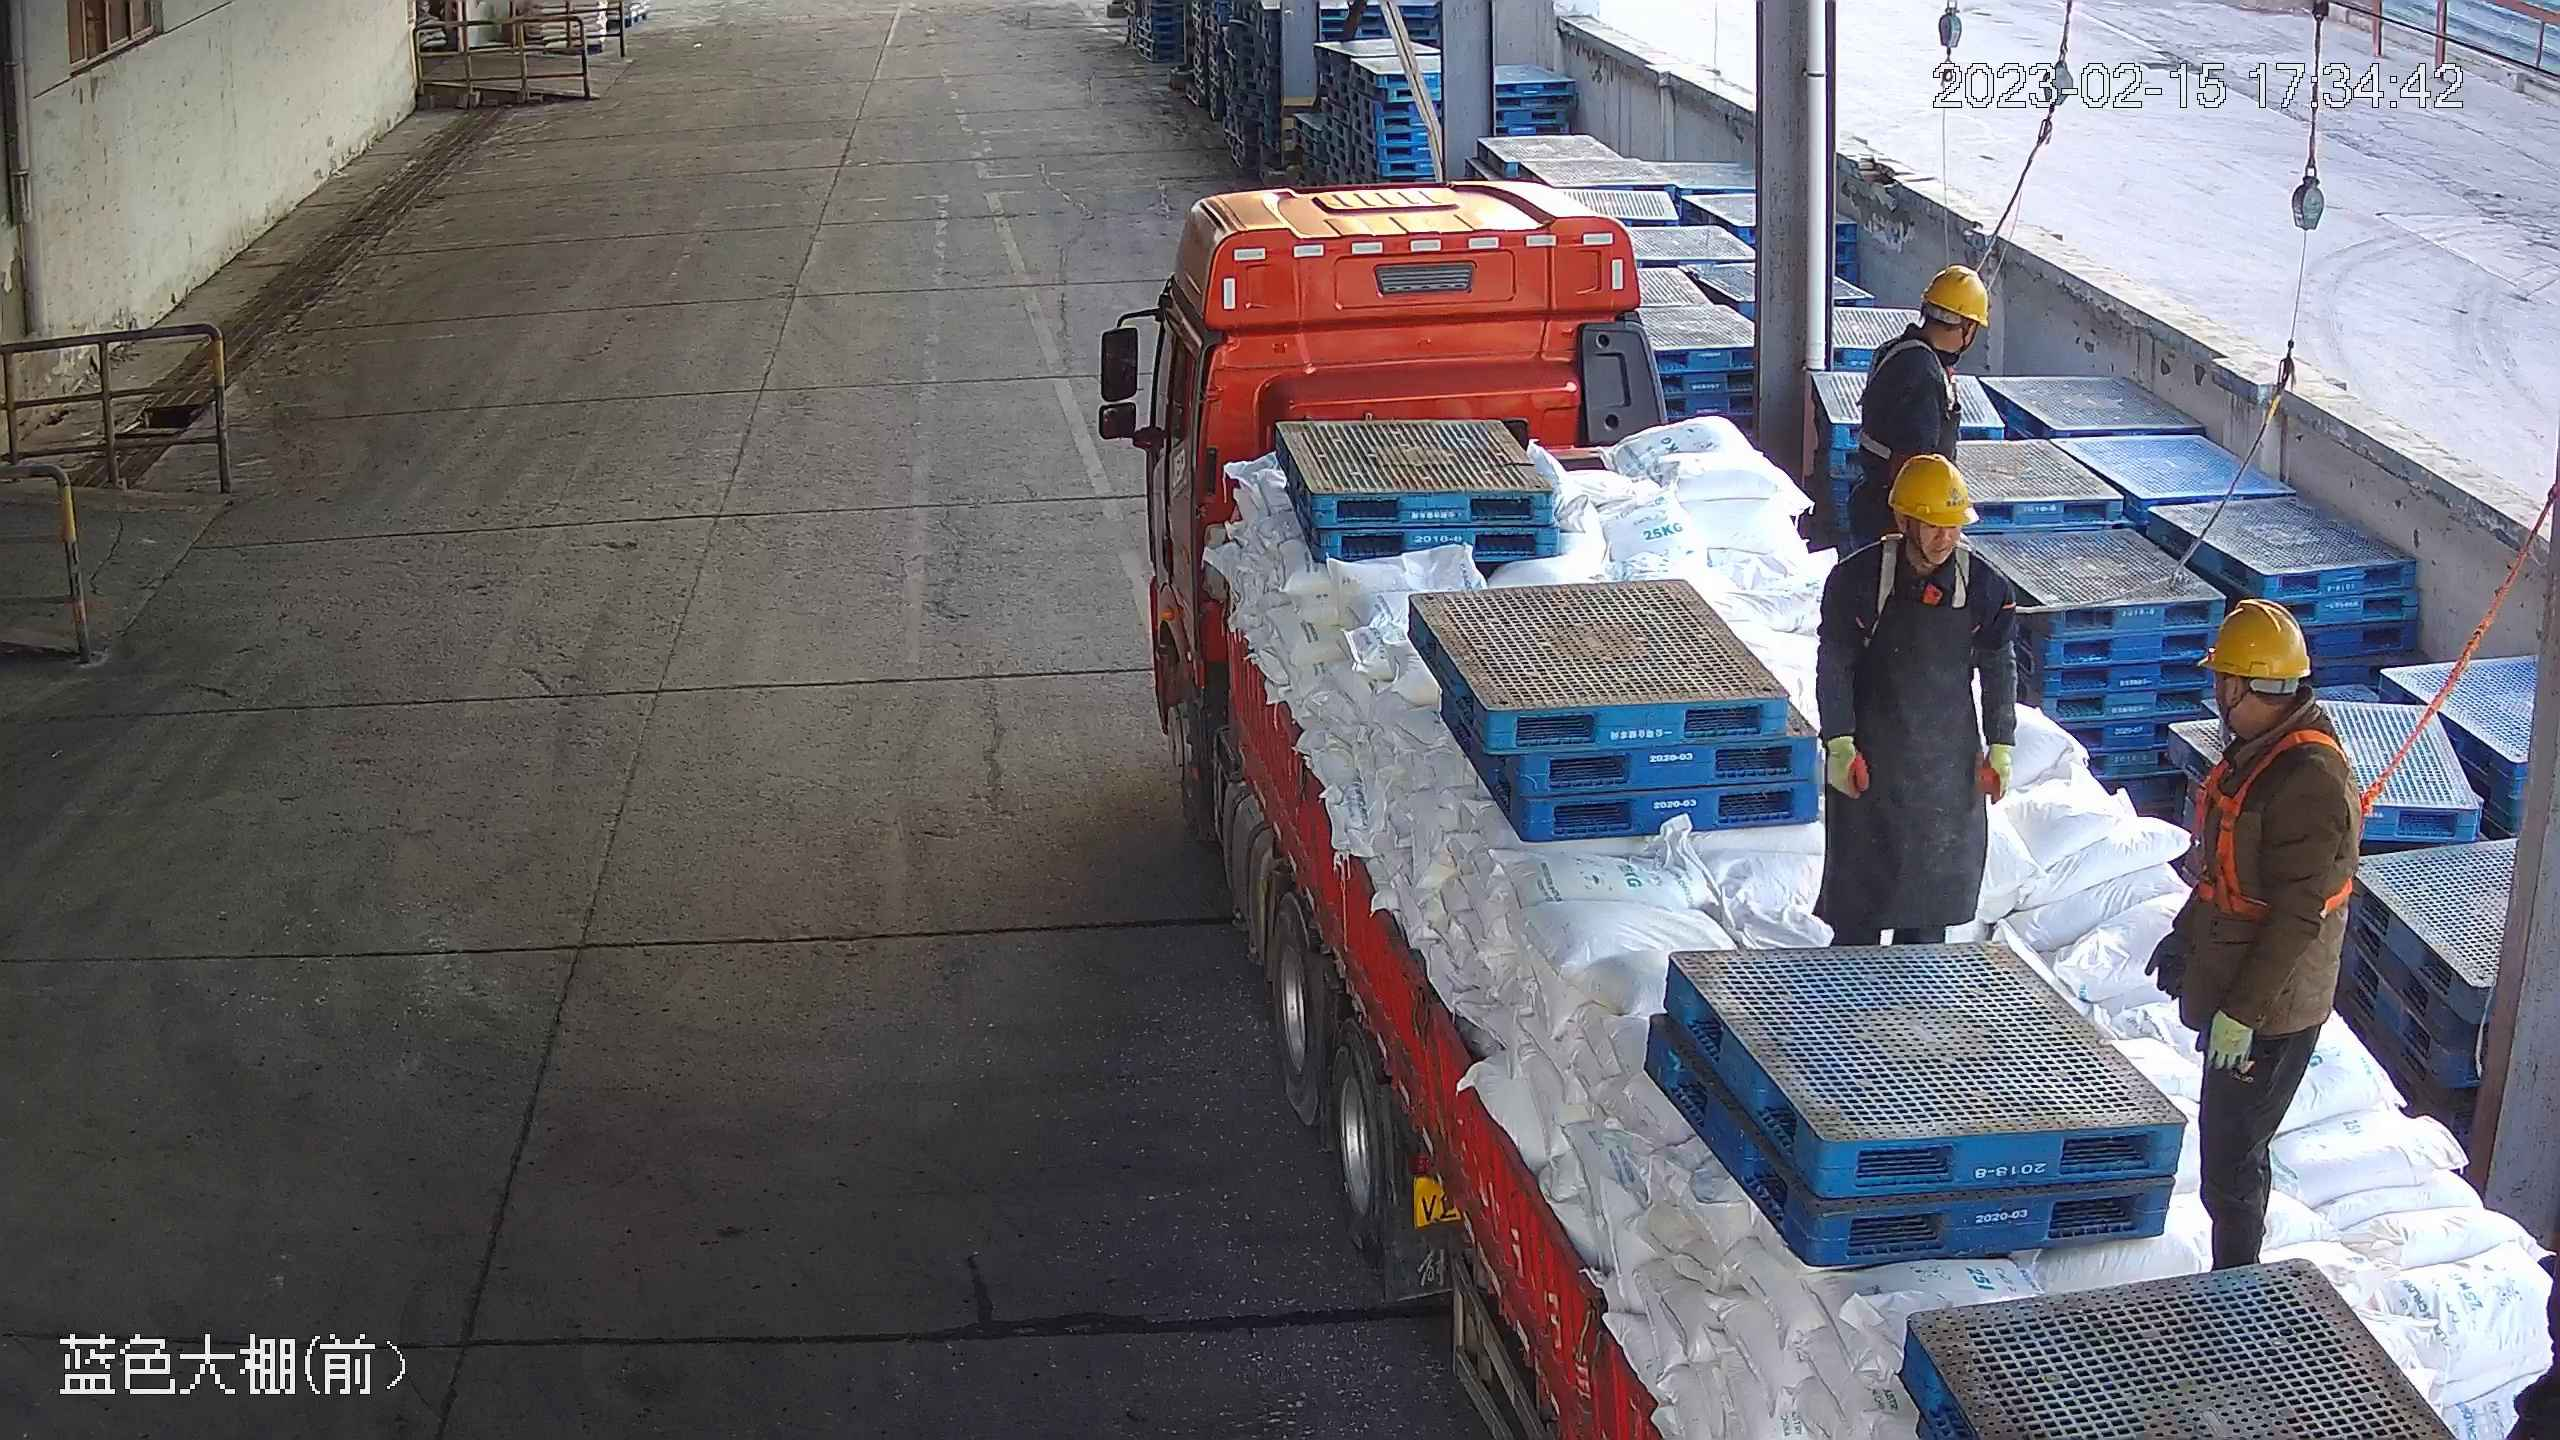belt: (2173, 721, 2375, 922), (1856, 530, 2032, 643), (1859, 332, 1954, 460)
head: (2190, 597, 2361, 815), (1815, 453, 2015, 616), (1861, 263, 1990, 398)
helmet: (2196, 597, 2313, 680), (1886, 452, 1980, 526), (1920, 264, 1991, 326)
people: (2143, 597, 2365, 1275), (1812, 452, 2018, 949)
truck: (1144, 175, 2560, 1440)
